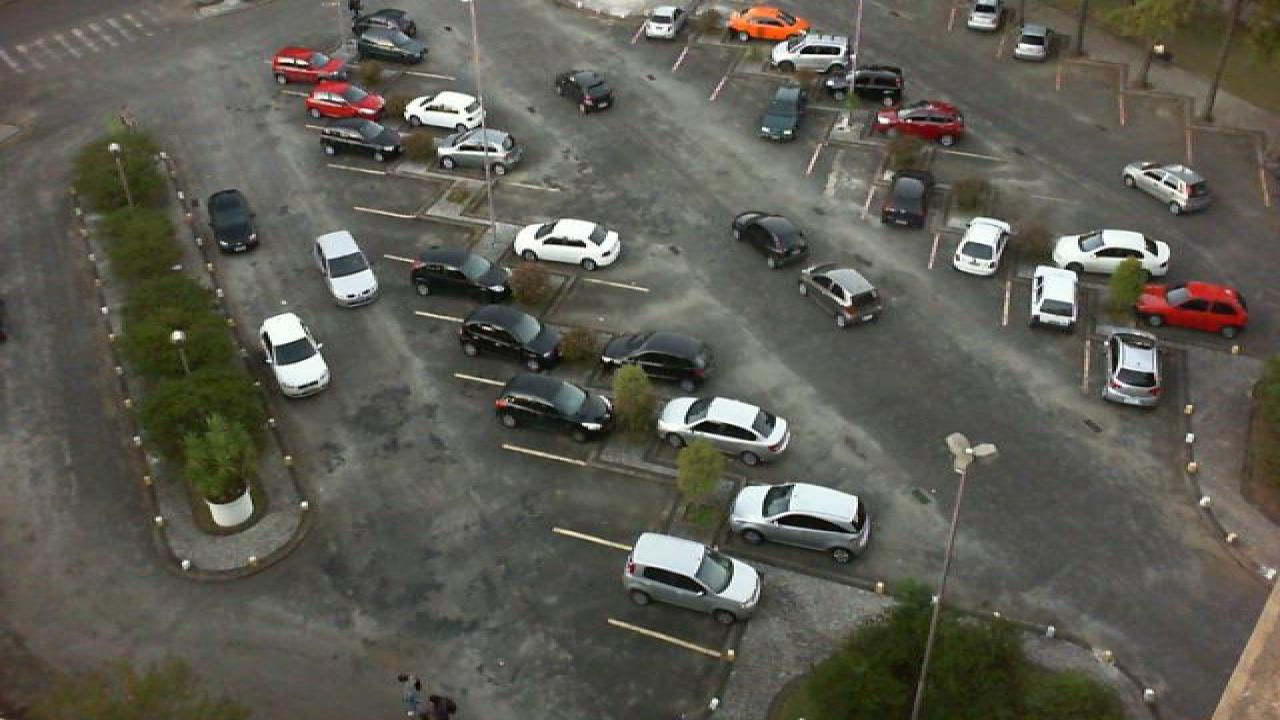Car: (620, 531, 766, 625), (726, 480, 872, 562), (654, 395, 792, 467), (488, 373, 614, 444), (454, 302, 564, 374), (598, 328, 716, 393), (1134, 279, 1254, 341), (1052, 226, 1174, 281), (258, 312, 332, 400), (512, 217, 626, 272), (796, 262, 888, 329), (408, 250, 518, 306), (314, 228, 382, 308), (1120, 160, 1216, 216), (1098, 329, 1164, 406), (730, 212, 812, 270), (870, 99, 966, 146), (306, 114, 404, 160), (948, 216, 1014, 278), (768, 32, 856, 76), (436, 130, 520, 176), (204, 188, 262, 254), (1028, 263, 1084, 331), (822, 64, 908, 107), (402, 90, 486, 134), (876, 168, 932, 232), (304, 79, 390, 120), (354, 22, 432, 66), (270, 46, 350, 87), (726, 4, 812, 42), (756, 86, 808, 142), (556, 68, 618, 114), (350, 7, 418, 38), (1008, 21, 1050, 62), (644, 4, 684, 40), (964, 0, 1004, 34)
